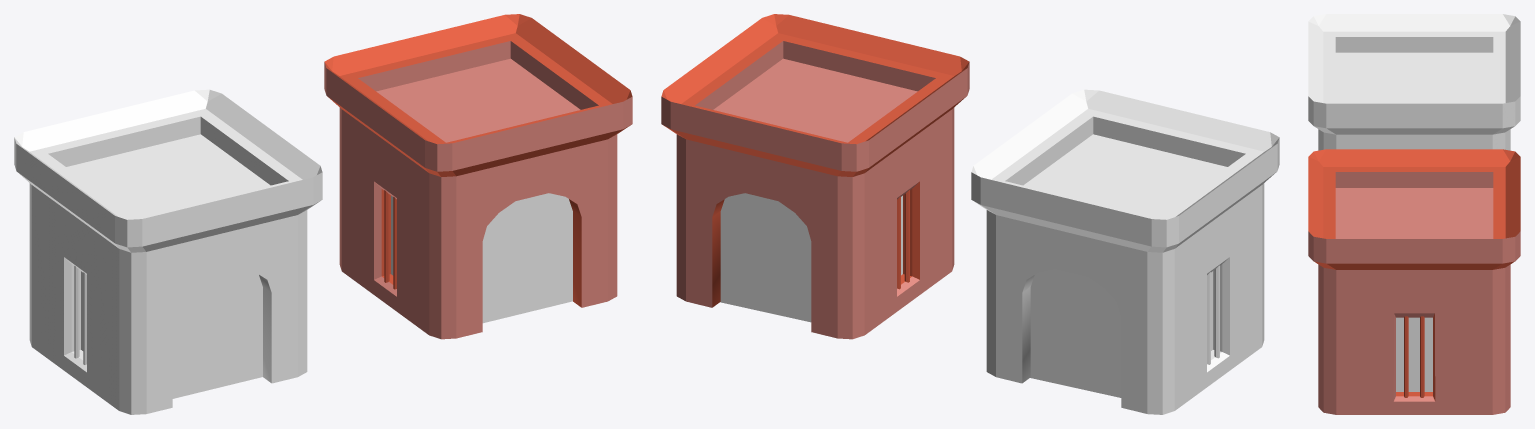
The model's file is Barracks.glb.
3 views of the same model, side by side, from view 1: azimuth 30°, elevation 25°; view 2: azimuth 150°, elevation 25°; view 3: azimuth 270°, elevation 25° (orthographic). The views are drawn at different scales.
Visible parts, largest first — view 1: BarracksBlue, BarracksRed, EntryPlane.002, EntryPlane; view 2: BarracksBlue, BarracksRed, EntryPlane.003, EntryPlane.001; view 3: BarracksRed, BarracksBlue, Bar01.002, Bar02.002.
Part boxes in pixels (x1=…): BarracksBlue: x1=14, y1=89, x2=322, y2=414; BarracksRed: x1=324, y1=14, x2=632, y2=339; EntryPlane.002: x1=482, y1=193, x2=572, y2=323; EntryPlane: x1=172, y1=269, x2=262, y2=398; BarracksBlue: x1=971, y1=89, x2=1279, y2=414; BarracksRed: x1=661, y1=14, x2=969, y2=339; EntryPlane.003: x1=720, y1=193, x2=811, y2=322; EntryPlane.001: x1=1030, y1=269, x2=1121, y2=397; BarracksRed: x1=1308, y1=149, x2=1520, y2=414; BarracksBlue: x1=1308, y1=14, x2=1520, y2=150; Bar01.002: x1=1404, y1=316, x2=1408, y2=397; Bar02.002: x1=1420, y1=316, x2=1424, y2=397.
Size of the model in its own units: 6.65 by 2.5 by 2.65.
